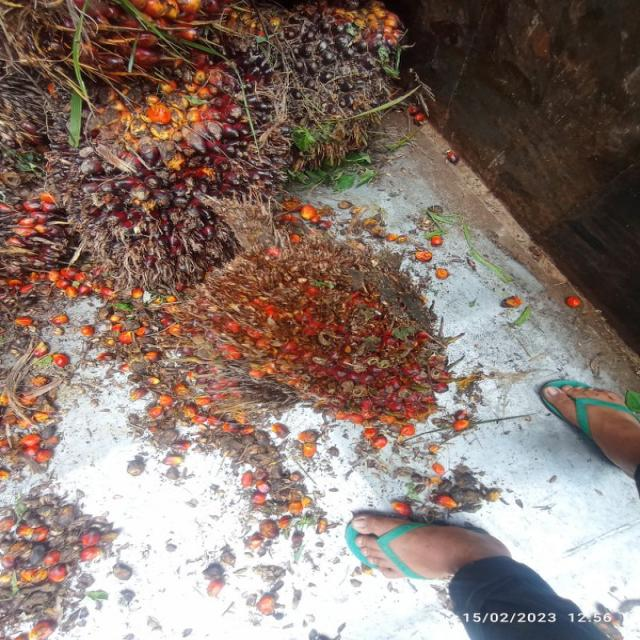fraksi 00: (56, 57, 310, 296), (199, 0, 437, 178)
fraksi 4: (164, 216, 478, 454)
